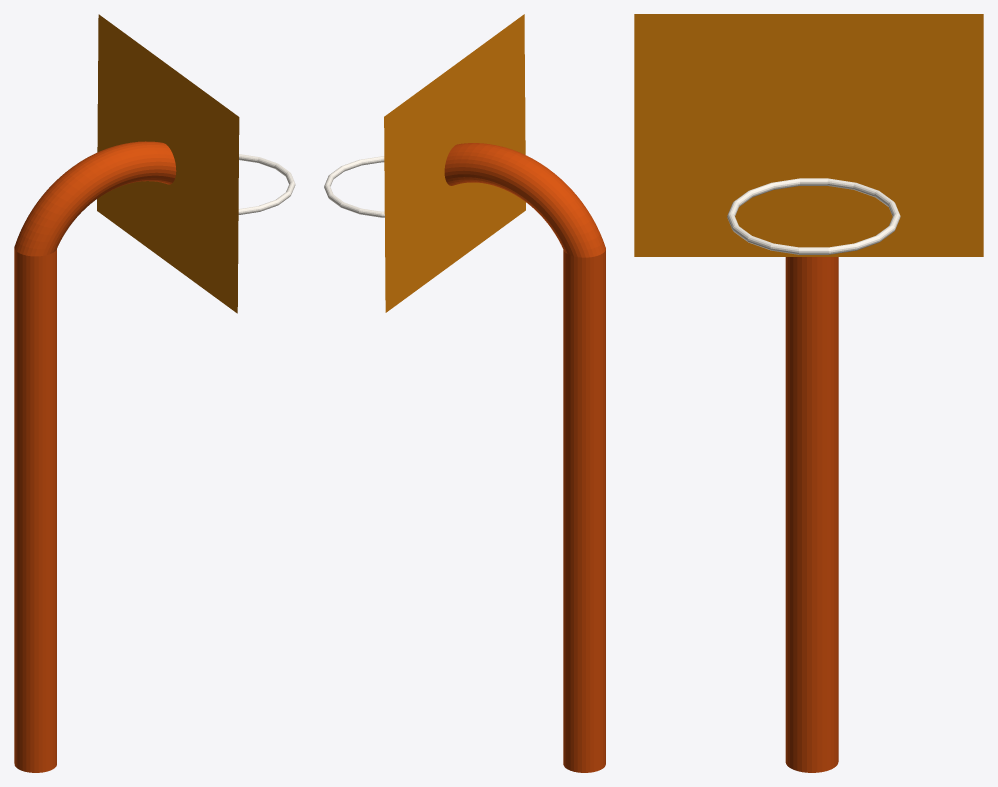
File: basketball-pole.fbx
3 renders of one model, left to right at view 1: azimuth 30°, elevation 25°; view 2: azimuth 150°, elevation 25°; view 3: azimuth 270°, elevation 25°, orthographic. The views are drawn at different scales.
Visible parts, largest first — view 1: Cylinder, Plane, Circle; view 2: Cylinder, Plane, Circle; view 3: Plane, Cylinder, Circle.
Part boxes in pixels (x1,y1,x2,y2): Cylinder: [14, 141, 176, 772]; Plane: [97, 14, 239, 313]; Circle: [238, 154, 295, 214]; Cylinder: [444, 143, 605, 772]; Plane: [384, 14, 525, 312]; Circle: [324, 156, 384, 217]; Plane: [634, 14, 983, 256]; Cylinder: [785, 257, 838, 772]; Circle: [727, 178, 900, 254].
Bounding box in the file's own units: 436 × 1033 × 395.
